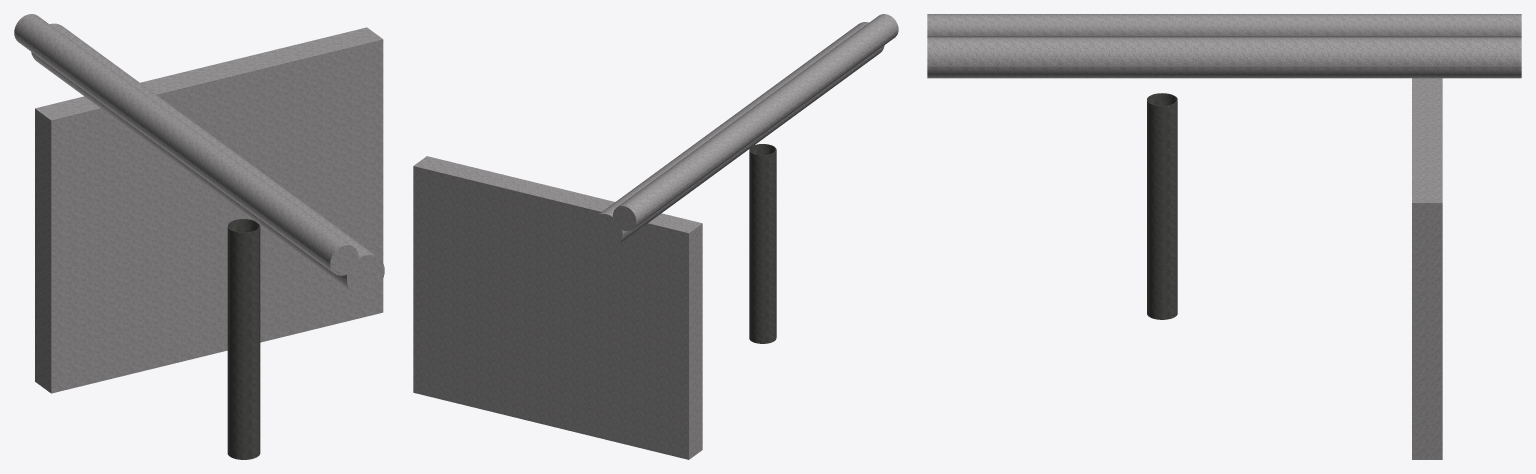
3 views of the same model, side by side, from view 1: azimuth 30°, elevation 25°; view 2: azimuth 150°, elevation 25°; view 3: azimuth 270°, elevation 25° (orthographic). The views are drawn at different scales.
Parts seen in each view (by area): view 1: 0_0_2_2_2_0; view 2: 0_0_2_2_2_0; view 3: 0_0_2_2_2_0.
Boxes of the visible parts, bbox=[...] form: 0_0_2_2_2_0: bbox=[14, 14, 384, 459]; 0_0_2_2_2_0: bbox=[413, 14, 898, 459]; 0_0_2_2_2_0: bbox=[927, 14, 1521, 459].
Bounding box in the file's own units: 7 × 6.6 × 11.53.
Materials: 4 (4 with a texture image).
